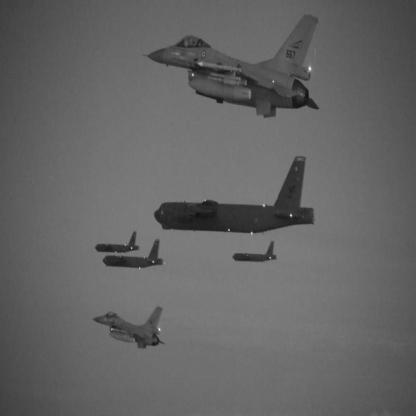B52: (155, 156, 318, 237), (103, 240, 166, 270), (96, 232, 142, 255), (233, 242, 278, 263)
F16: (143, 14, 321, 119), (94, 307, 167, 350)
